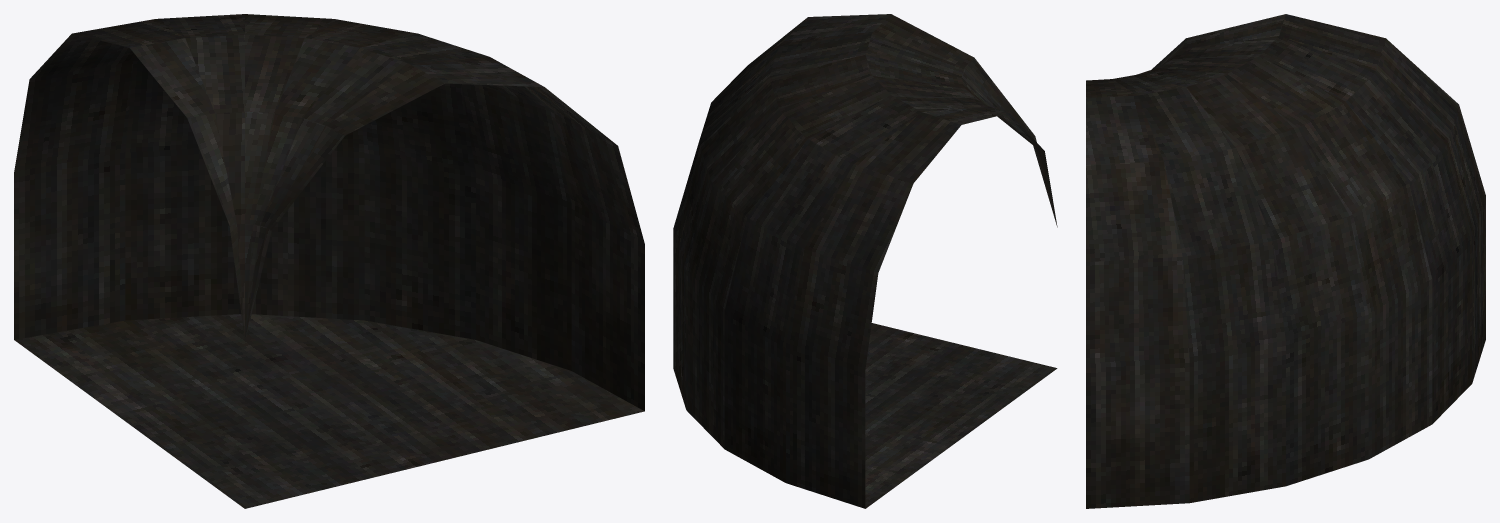
Rendered from tunnel_1_elbow.glb.
3 renders of one model, left to right at view 1: azimuth 30°, elevation 25°; view 2: azimuth 150°, elevation 25°; view 3: azimuth 270°, elevation 25°, orthographic. The views are drawn at different scales.
Parts seen in each view (by area): view 1: tunnel_1_elbow; view 2: tunnel_1_elbow; view 3: tunnel_1_elbow.
Boxes of the visible parts, x1,y1,x2,y2 form: tunnel_1_elbow: [14, 14, 644, 508]; tunnel_1_elbow: [673, 14, 1057, 508]; tunnel_1_elbow: [1086, 14, 1485, 508].
Bounding box in the file's own units: 2 × 1.8 × 2.
1 material, 1 textured.
